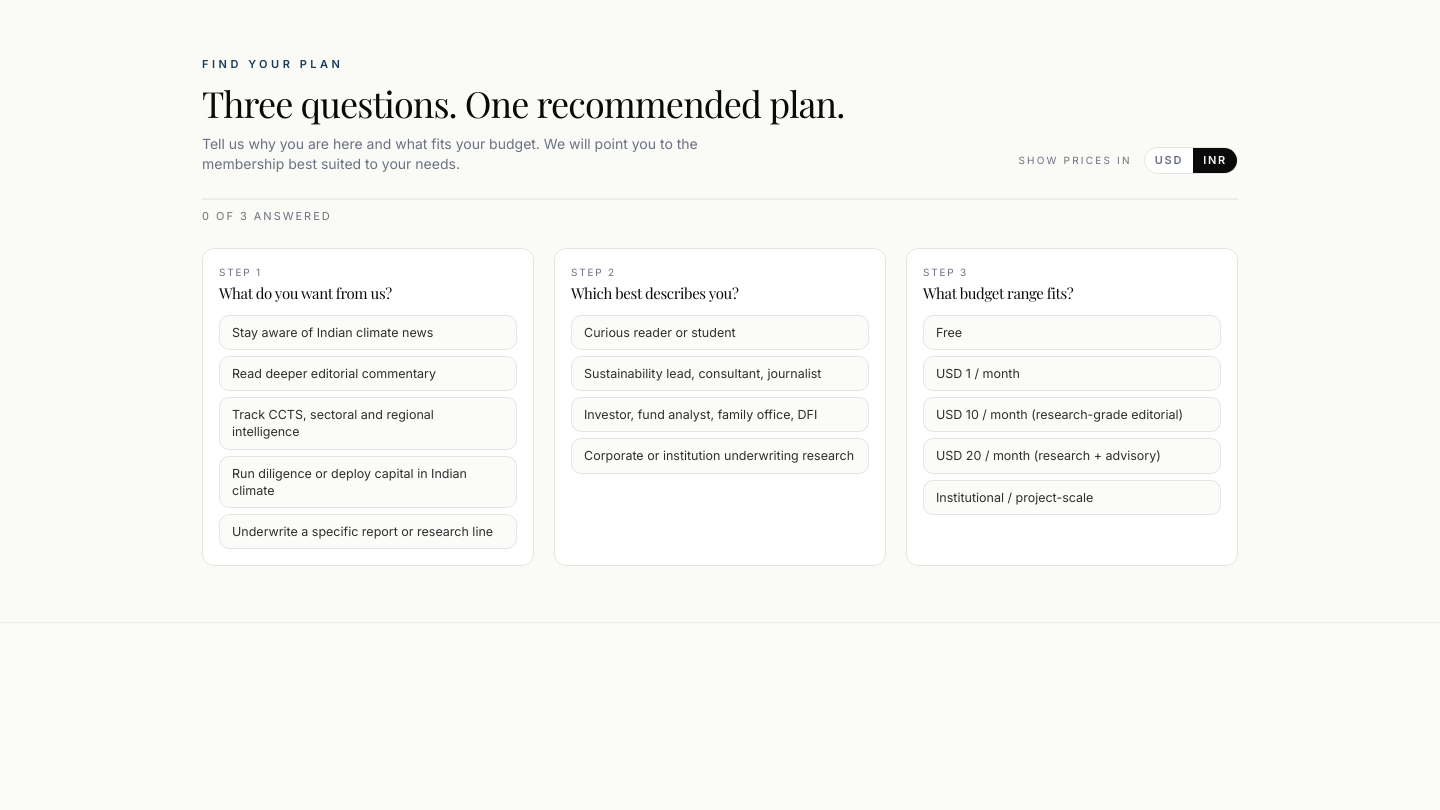
Test: TierFinder scoring › breaks 5-5 tie between Enthusiasts and Market Makers using the $10/mo budget signal
Click the button "Read deeper editorial commentary" at (368, 374), box [219, 356, 517, 391]
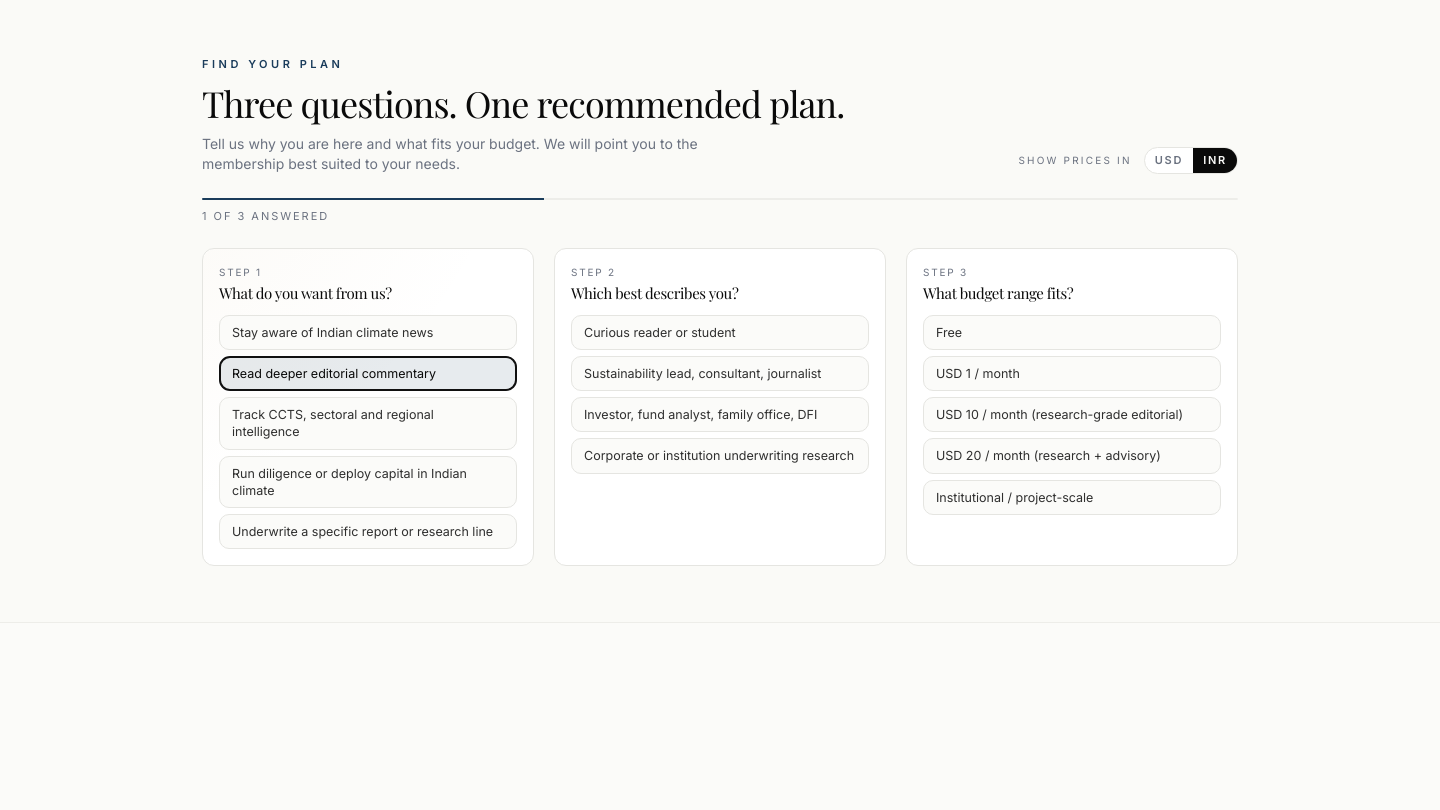
Click the button "Sustainability lead, consultant, journalist" at (720, 374), box [571, 356, 869, 391]
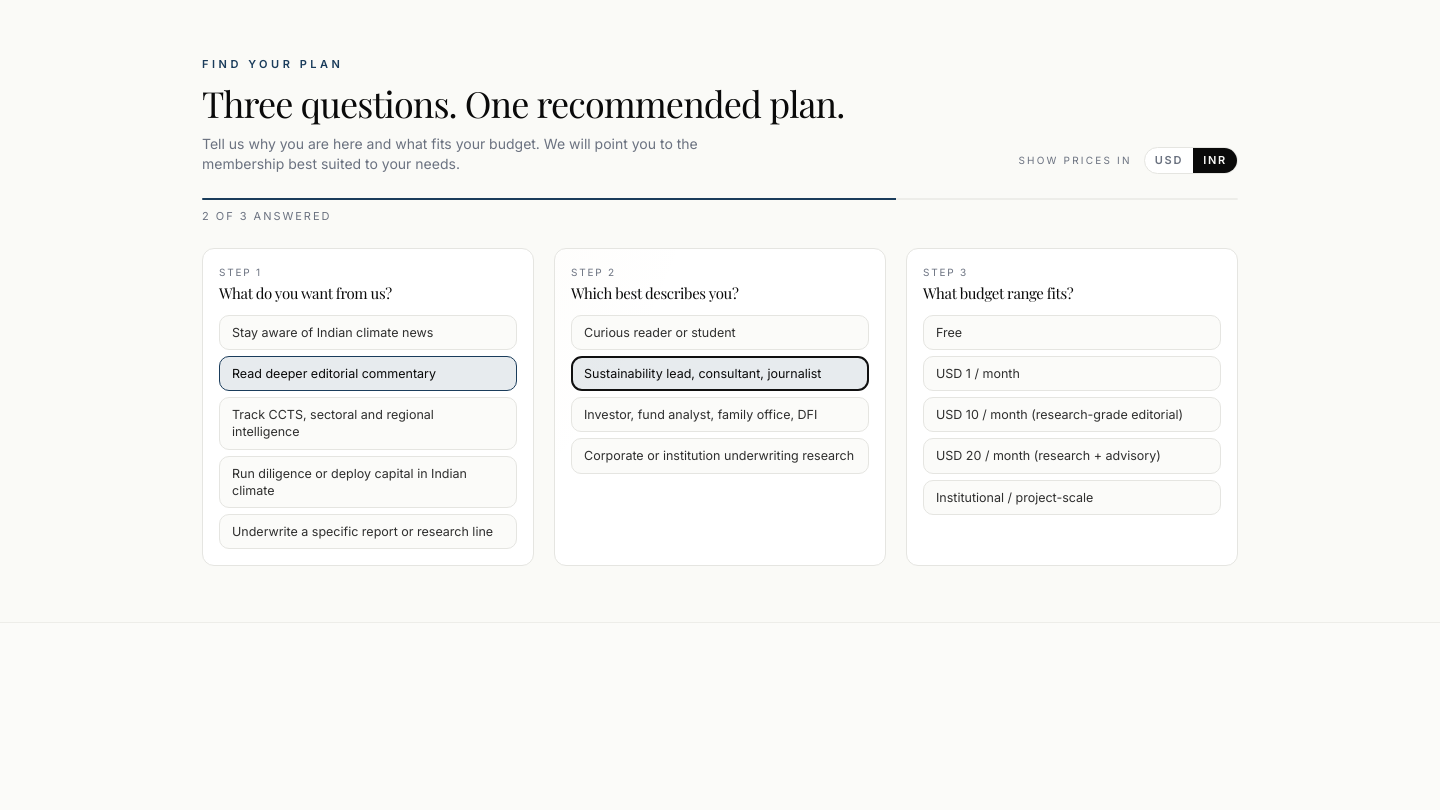
Click the button "USD 10 / month (research-grade editorial)" at (1072, 415), box [923, 397, 1221, 432]
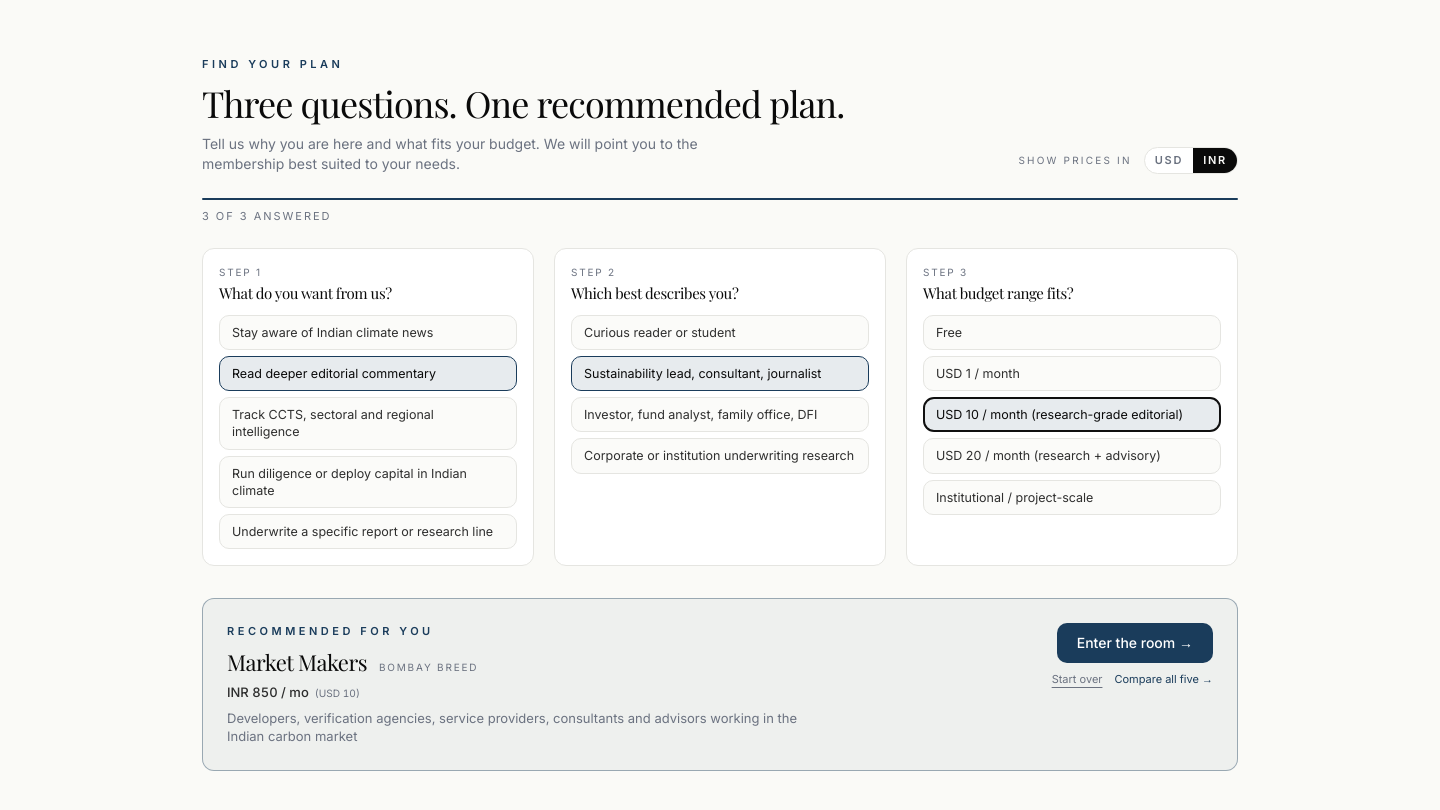
Result: the heading "Market Makers" is shown at [227, 646, 367, 679]
